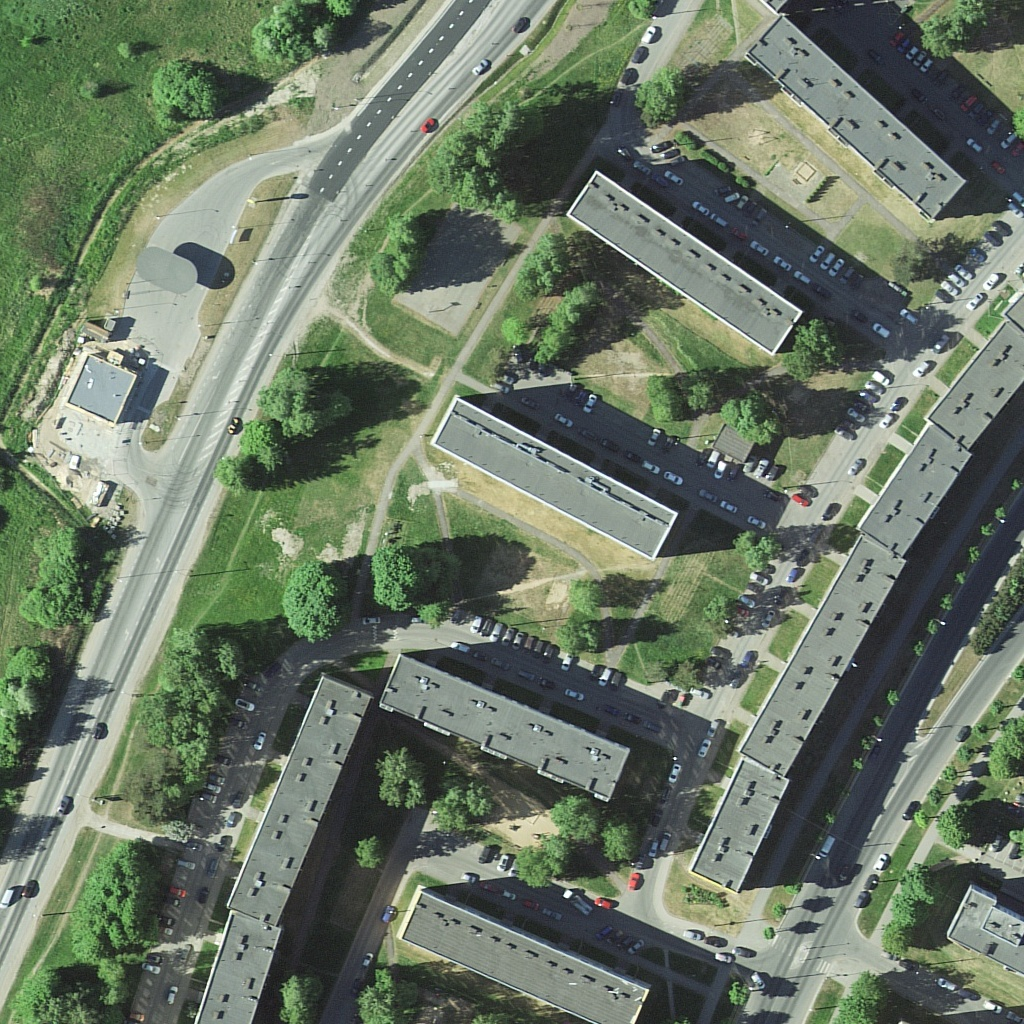building: (745, 16, 964, 226), (574, 176, 808, 353), (429, 397, 681, 559), (741, 541, 903, 771), (378, 662, 632, 804), (225, 673, 367, 917), (395, 889, 640, 1024), (858, 423, 975, 551), (684, 758, 789, 896), (927, 323, 1024, 445), (203, 918, 289, 1024), (943, 888, 1024, 967), (74, 359, 132, 425)
